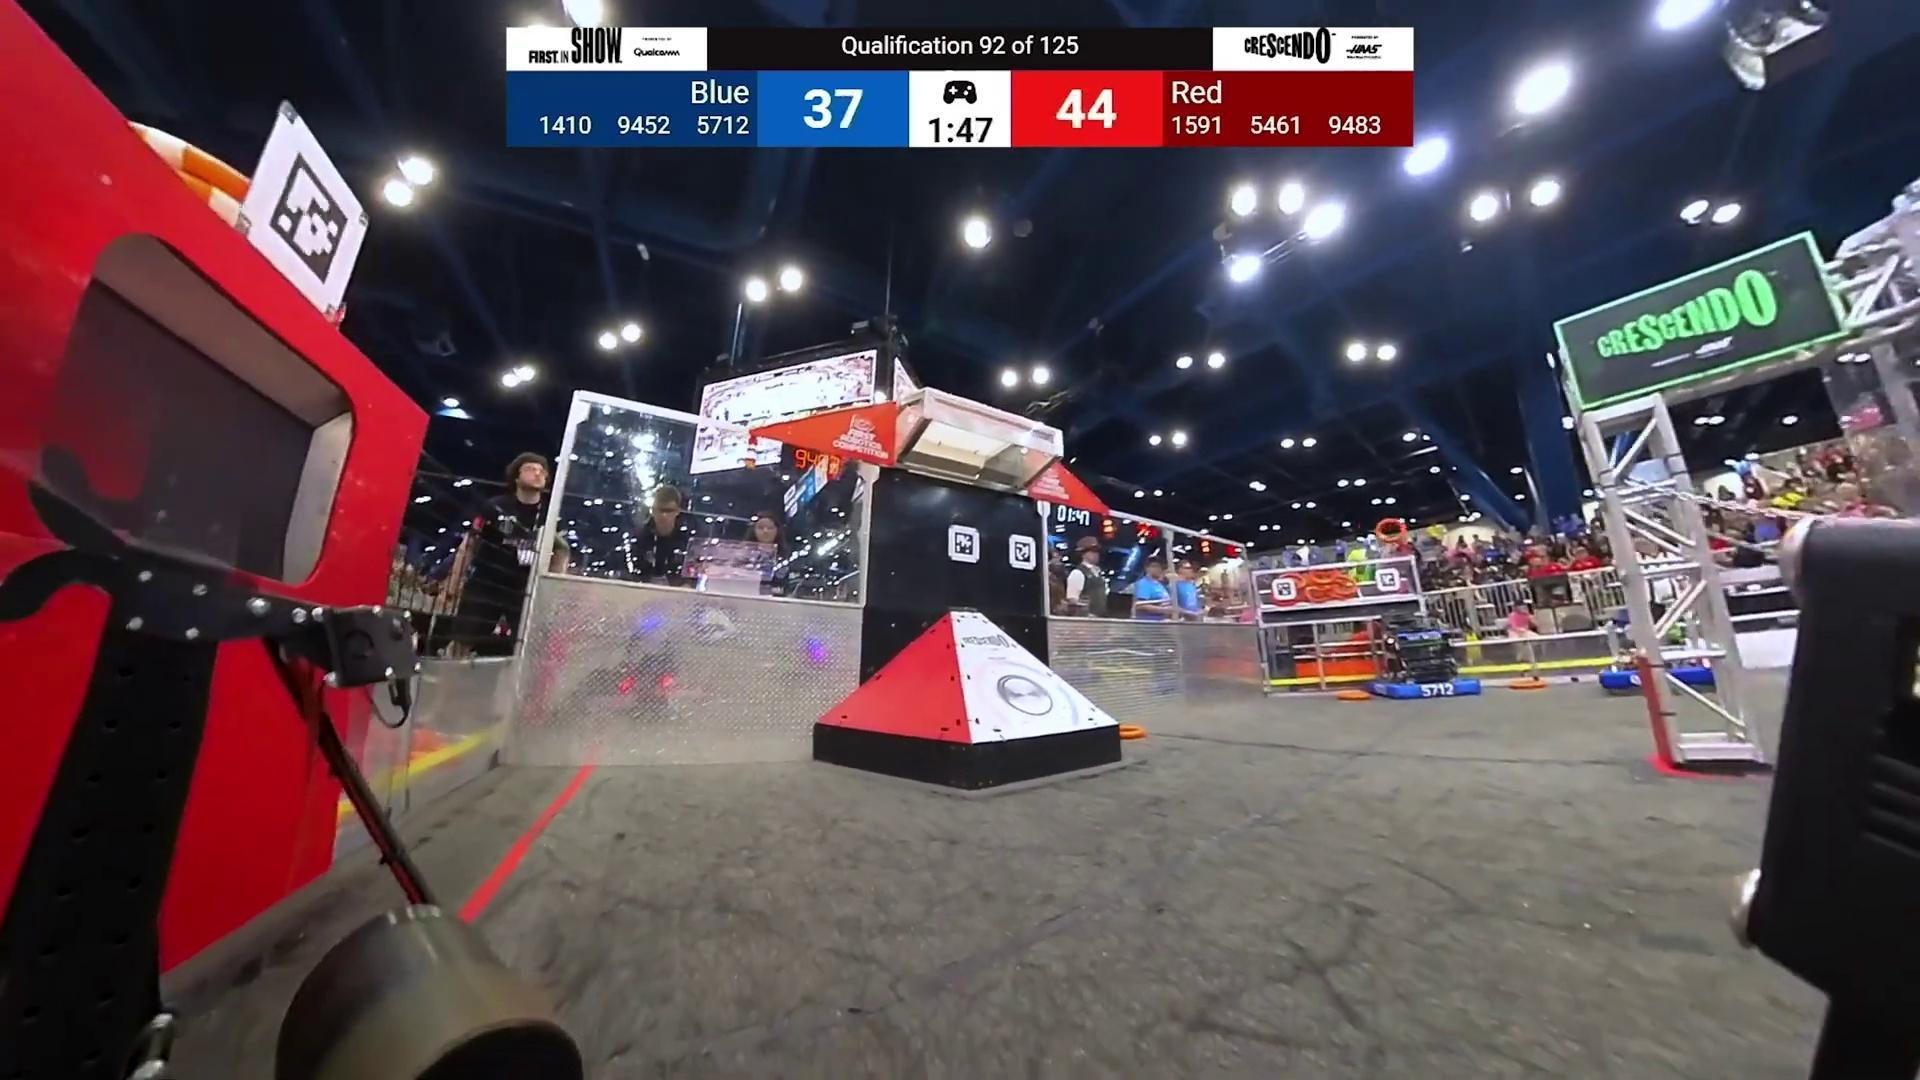robot: (1600, 609, 1717, 694), (1366, 616, 1481, 702)
